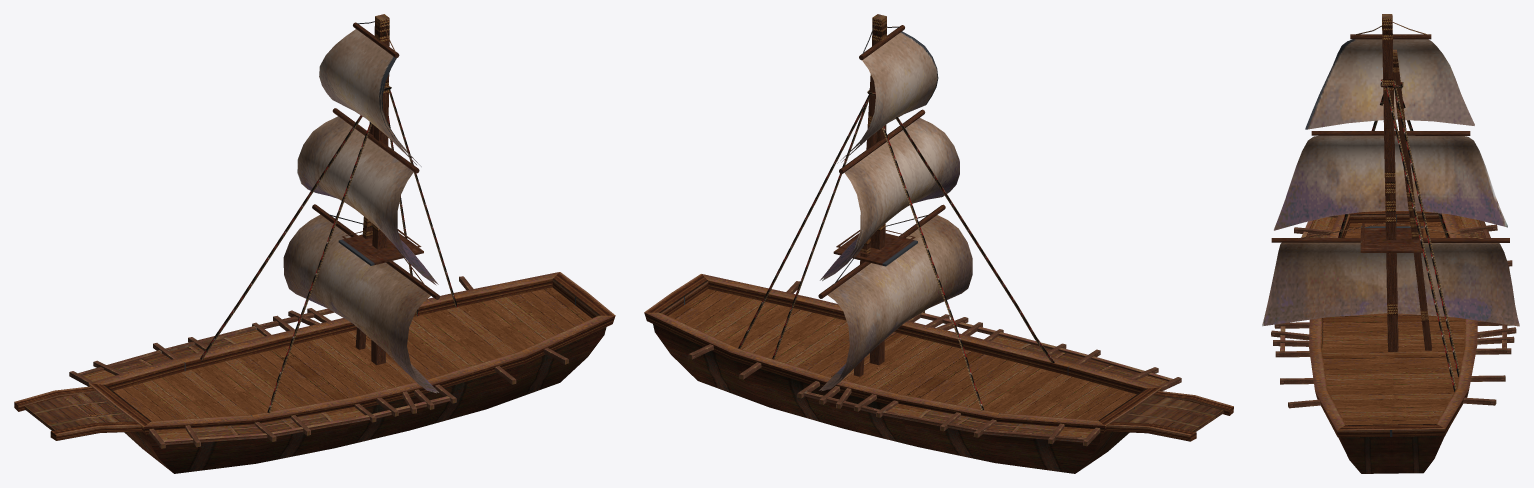
File: ss_chuang_2.FBX
3 views of the same model, side by side, from view 1: azimuth 30°, elevation 25°; view 2: azimuth 150°, elevation 25°; view 3: azimuth 270°, elevation 25° (orthographic). The views are drawn at different scales.
Parts seen in each view (by area): view 1: ss_chuang_2; view 2: ss_chuang_2; view 3: ss_chuang_2.
Boxes of the visible parts, bbox=[...] form: ss_chuang_2: bbox=[14, 14, 615, 473]; ss_chuang_2: bbox=[644, 14, 1233, 473]; ss_chuang_2: bbox=[1262, 14, 1519, 473].
Size of the model in its own units: 1873 by 788 by 1306.
